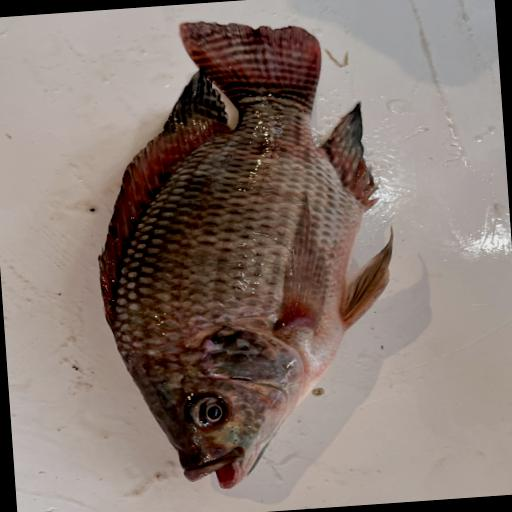Tilapia: (83, 9, 412, 497)
